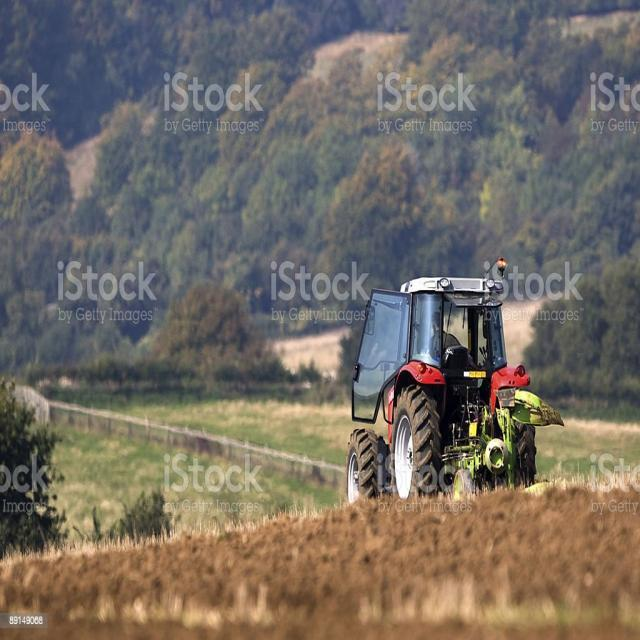Tratores - v5 YOLO V8L 2024-11-13: (323, 253, 567, 514)
